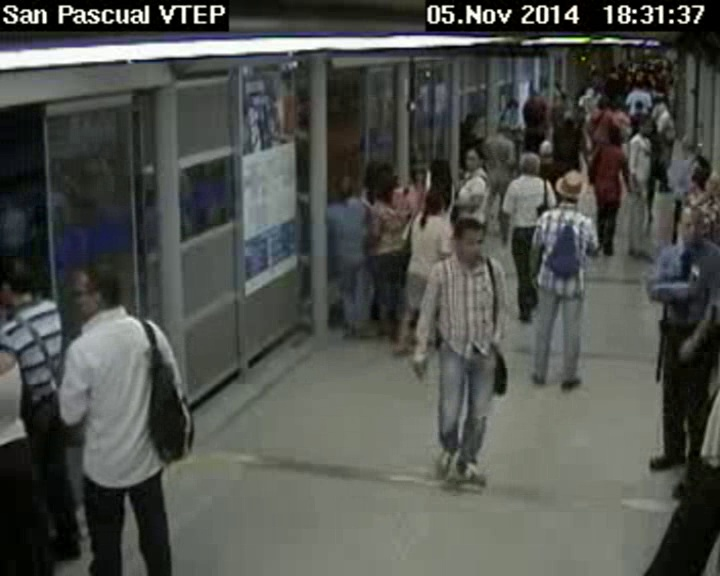person: (71, 265, 124, 315), (1, 256, 40, 307), (449, 217, 489, 263), (557, 167, 585, 208), (674, 201, 702, 242), (370, 159, 401, 194), (686, 156, 712, 195), (512, 150, 538, 177), (332, 175, 358, 198), (462, 149, 485, 170), (423, 189, 444, 212), (430, 154, 451, 176), (603, 124, 622, 147), (635, 116, 656, 135), (410, 161, 426, 182), (562, 112, 575, 131), (464, 111, 478, 128), (504, 95, 520, 109), (612, 94, 626, 110), (598, 93, 610, 110), (499, 119, 510, 137), (653, 91, 668, 104), (553, 77, 565, 92), (632, 99, 644, 112), (633, 80, 645, 92)
